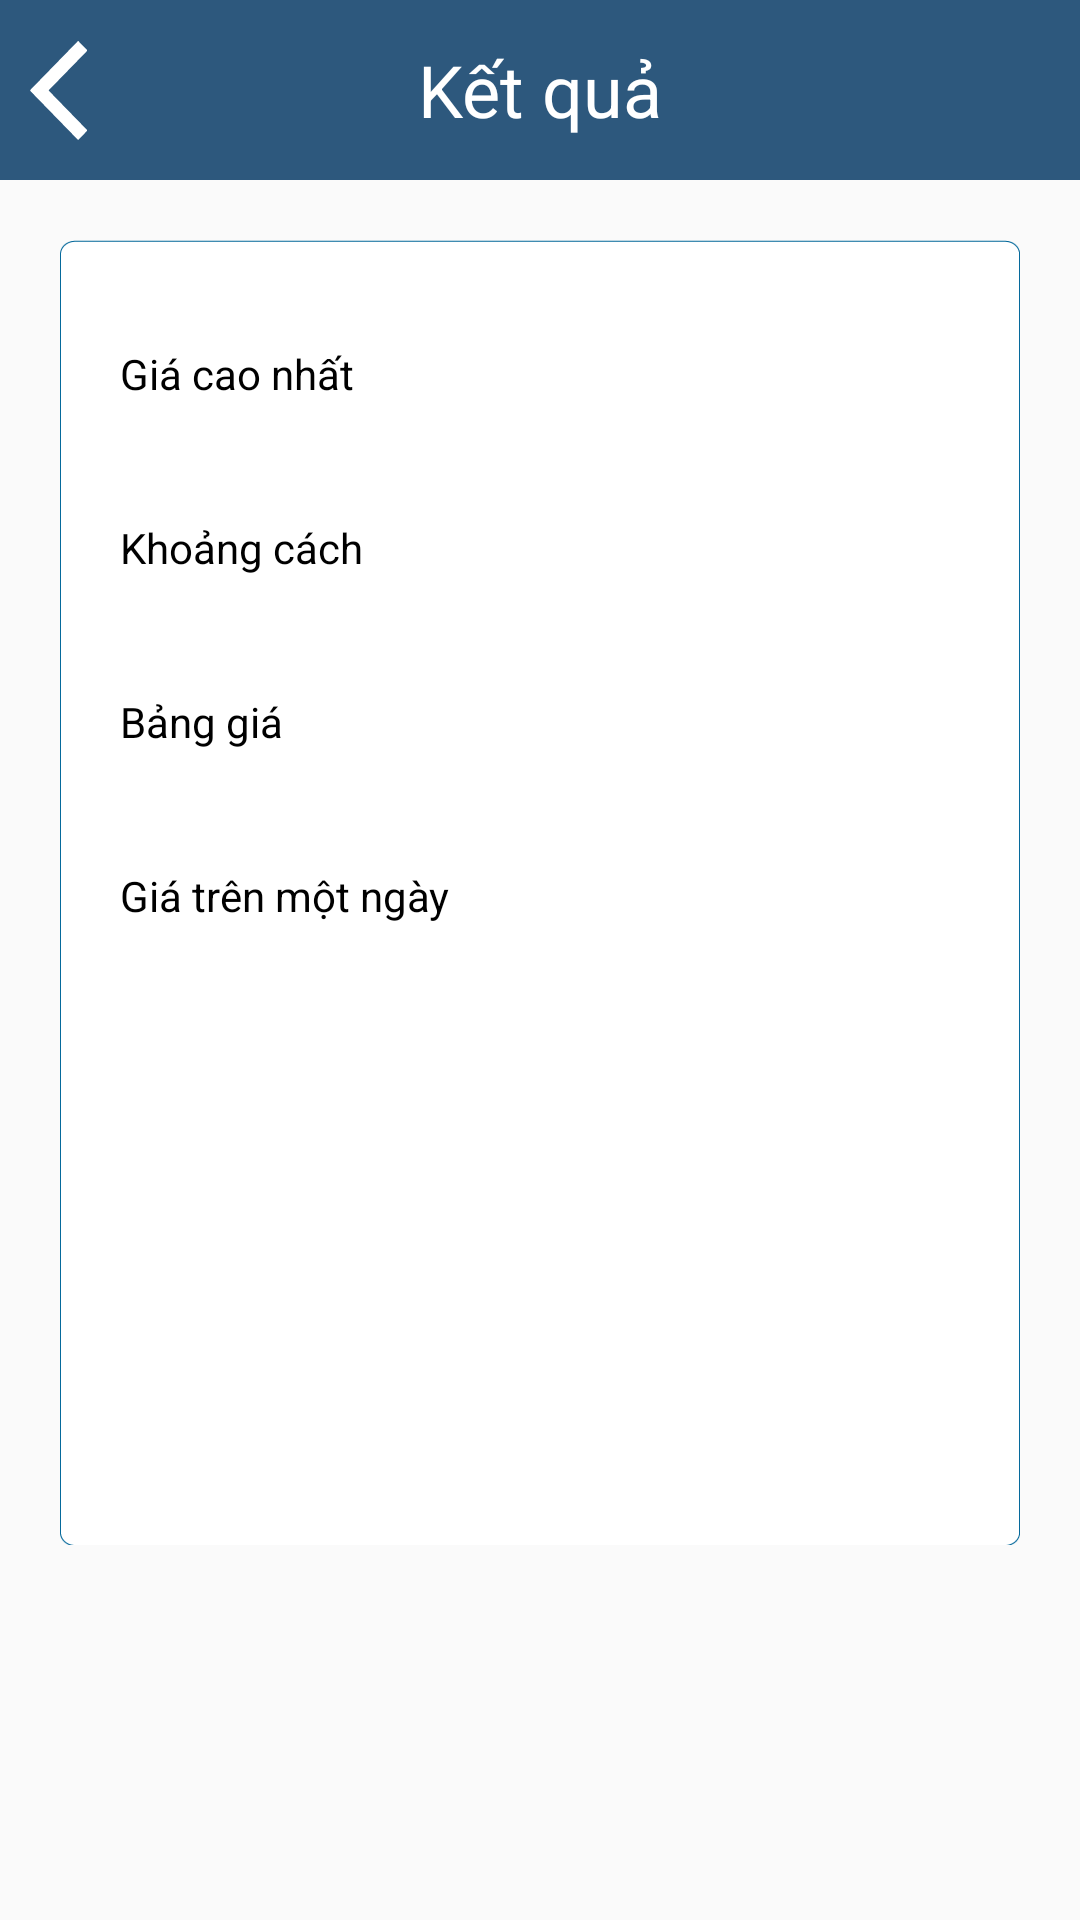

Point at icon controls on the screen. Image size 1080x1920, points as [x,y].
back: [58,90]
